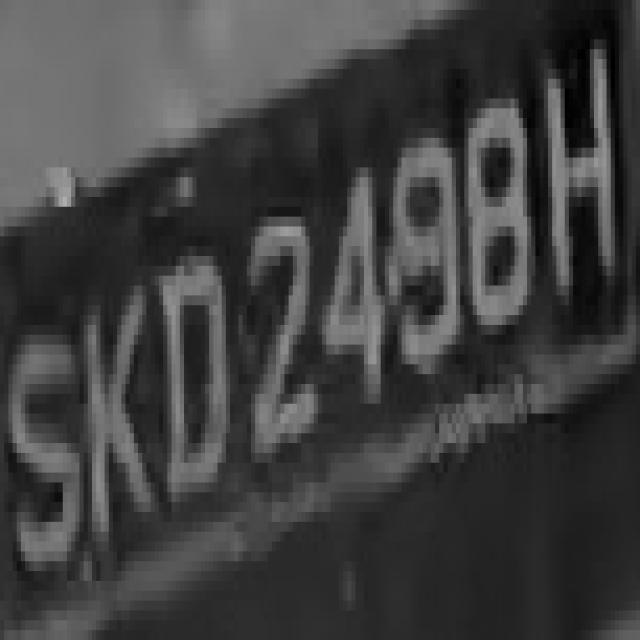2: (239, 187, 322, 483)
4: (301, 128, 393, 414)
8: (456, 59, 540, 374)
9: (385, 98, 468, 394)
D: (163, 216, 234, 532)
H: (532, 0, 624, 325)
K: (71, 246, 163, 571)
S: (4, 315, 75, 601)
